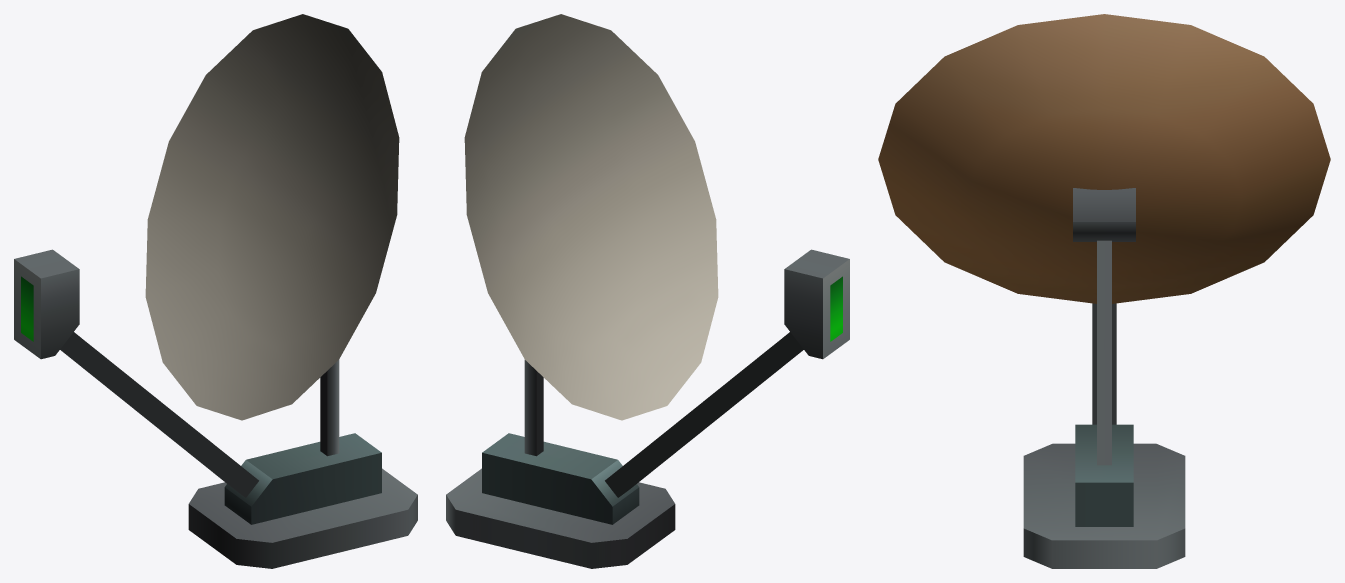
File: Antenna_3A.fbx
3 renders of one model, left to right at view 1: azimuth 30°, elevation 25°; view 2: azimuth 150°, elevation 25°; view 3: azimuth 270°, elevation 25°, orthographic. The views are drawn at different scales.
Parts seen in each view (by area): view 1: Receiver_3A, Antenna_3A; view 2: Receiver_3A, Antenna_3A; view 3: Receiver_3A, Antenna_3A.
Part boxes in pixels (box(x1,y1,x2,y2)): Receiver_3A: box(145, 14, 399, 420); Antenna_3A: box(14, 249, 417, 568); Receiver_3A: box(464, 14, 718, 420); Antenna_3A: box(446, 249, 849, 568); Receiver_3A: box(878, 14, 1330, 303); Antenna_3A: box(1023, 240, 1185, 568).
Size of the model in its own units: 298 by 377 by 292.
